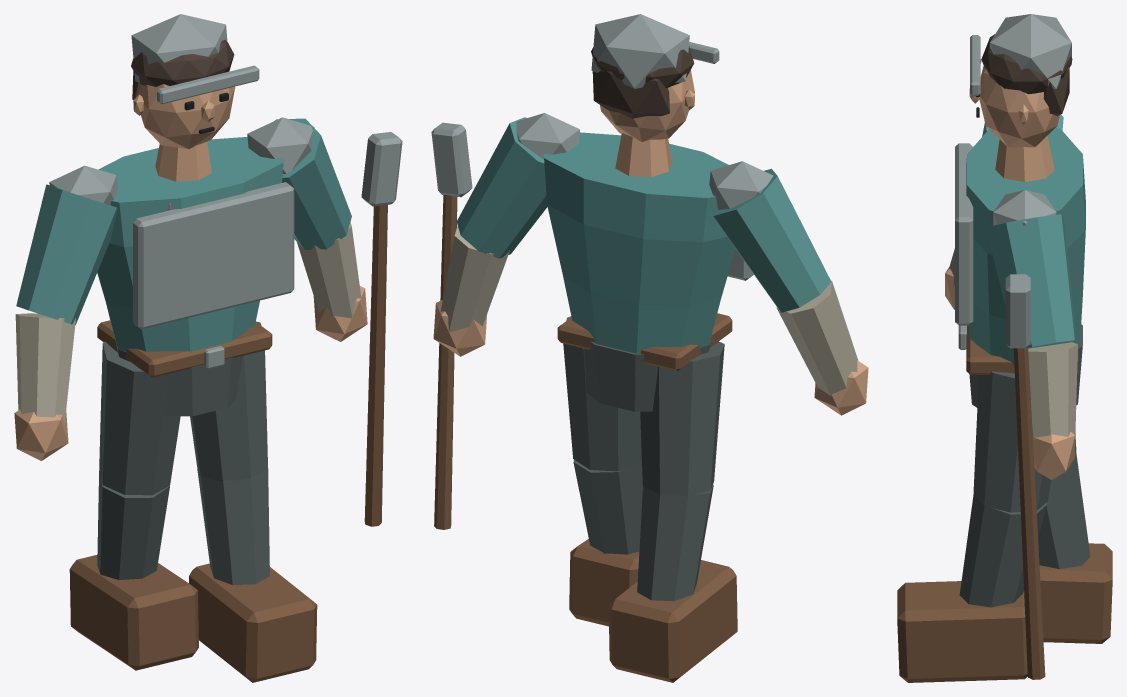
File: npc_guard_step_r_v01.glb
The picture shows the model from 3 angles, left to right: view 1: azimuth 30°, elevation 25°; view 2: azimuth 150°, elevation 25°; view 3: azimuth 270°, elevation 25°; orthographic projection.
Visible parts, largest first — view 1: GEO_npc_guard_step_r_v01; view 2: GEO_npc_guard_step_r_v01; view 3: GEO_npc_guard_step_r_v01.
Part boxes in pixels (x1=…): GEO_npc_guard_step_r_v01: x1=14, y1=14, x2=402, y2=682; GEO_npc_guard_step_r_v01: x1=431, y1=14, x2=868, y2=682; GEO_npc_guard_step_r_v01: x1=897, y1=14, x2=1112, y2=682.
Bounding box in the file's own units: 1.43 × 2.11 × 0.6476.
